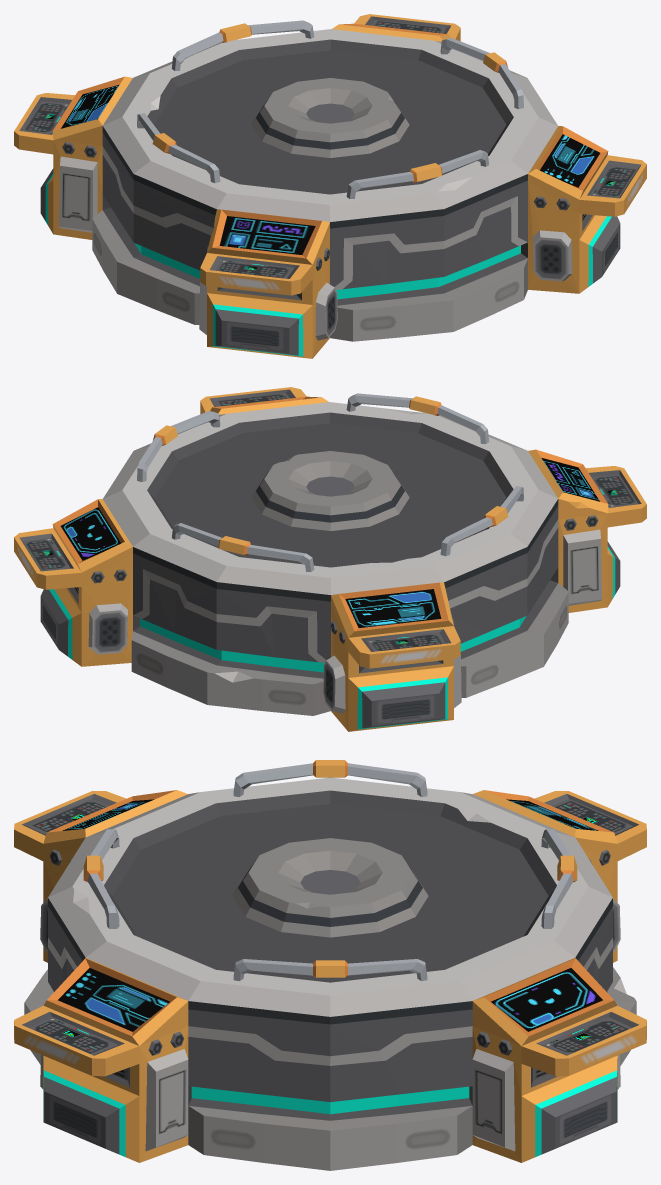
File: SM_Prop_Hologram_Table_01.fbx
The picture shows the model from 3 angles, top to bottom: view 1: azimuth 30°, elevation 25°; view 2: azimuth 150°, elevation 25°; view 3: azimuth 270°, elevation 25°; orthographic projection. The views are drawn at different scales.
Visible parts, largest first — view 1: SM_Prop_Hologram_Table_01; view 2: SM_Prop_Hologram_Table_01; view 3: SM_Prop_Hologram_Table_01.
Boxes of the visible parts, x1,y1,x2,y2 form: SM_Prop_Hologram_Table_01: (14, 14, 646, 358); SM_Prop_Hologram_Table_01: (14, 387, 646, 731); SM_Prop_Hologram_Table_01: (14, 760, 646, 1170).
Bounding box in the file's own units: 383 × 119 × 383.
